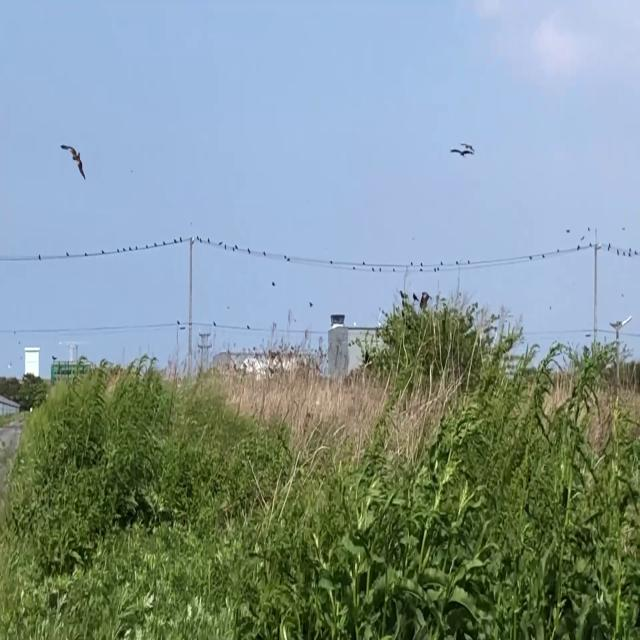bird: (61, 134, 85, 188), (451, 137, 474, 165), (271, 276, 276, 288)
